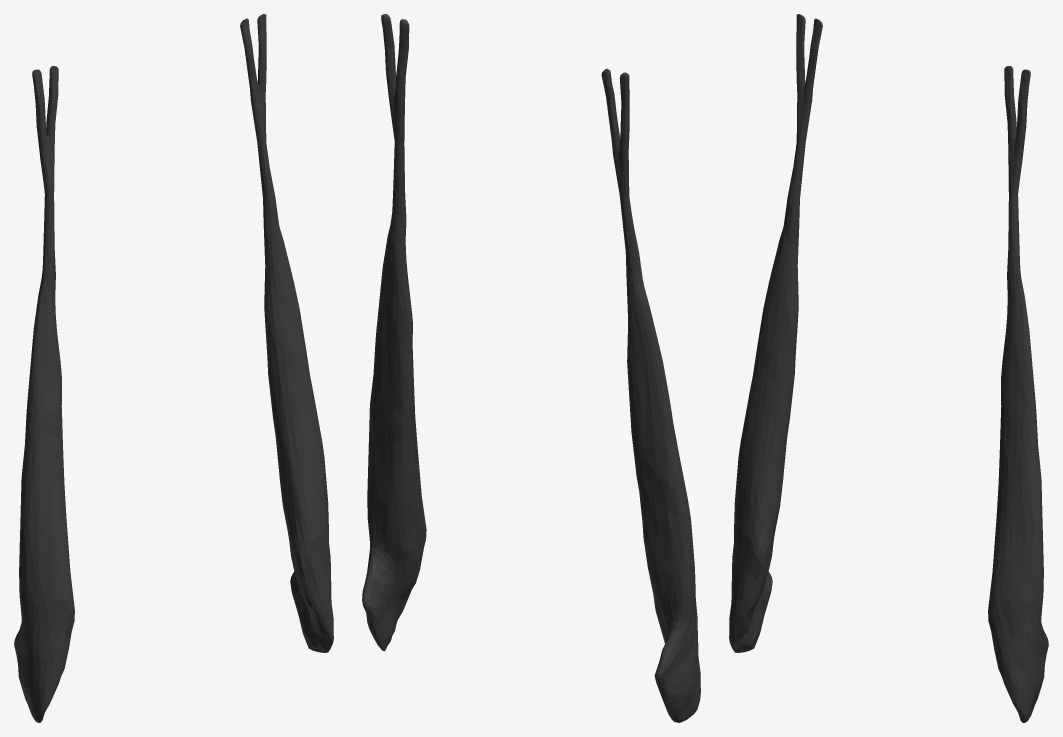
File: m_extensor_carpi_radialis.glb
3 views of the same model, side by side, from view 1: azimuth 30°, elevation 25°; view 2: azimuth 150°, elevation 25°; view 3: azimuth 330°, elevation 25° (orthographic). The views are drawn at different scales.
Visible parts, largest first — view 1: m_extensor_carpi_radialis; view 2: m_extensor_carpi_radialis; view 3: m_extensor_carpi_radialis.
Boxes of the visible parts, <box> form: m_extensor_carpi_radialis: <box>14,14,333,722</box>; m_extensor_carpi_radialis: <box>362,14,700,722</box>; m_extensor_carpi_radialis: <box>729,14,1048,722</box>.
Size of the model in its own units: 0.00415 by 0.00814 by 0.001.
Materials: 1 (1 with a texture image).
